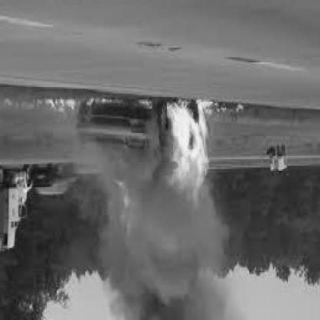Fire: (137, 92, 245, 216)
Smoke: (83, 168, 227, 320)
